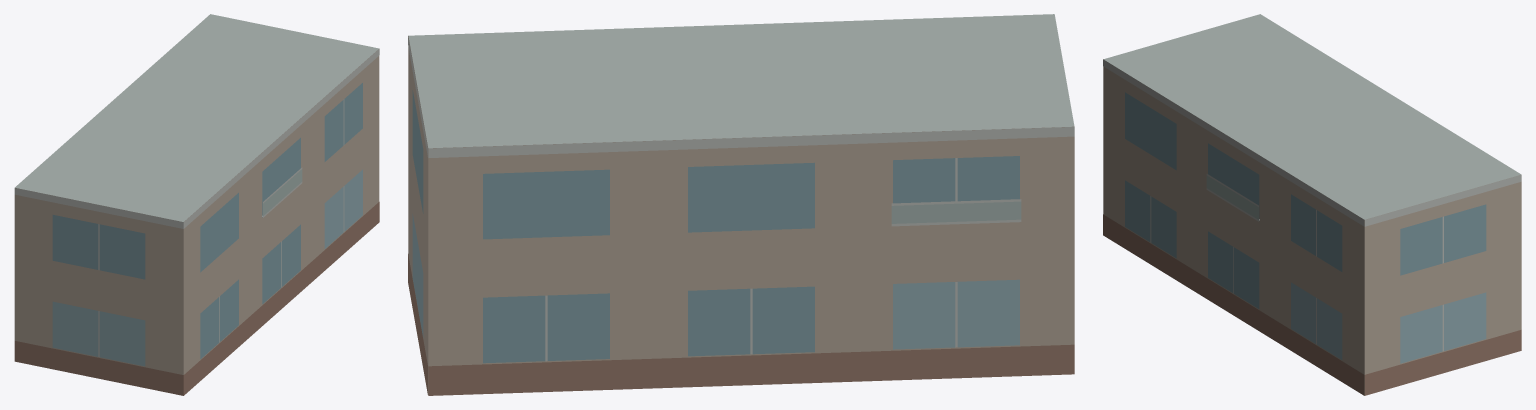
File: survey-upis-32800437.glb
3 renders of one model, left to right at view 1: azimuth 30°, elevation 25°; view 2: azimuth 150°, elevation 25°; view 3: azimuth 270°, elevation 25°, orthographic. The views are drawn at different scales.
Parts seen in each view (by area): view 1: survey-upis-32800437.tmp; view 2: survey-upis-32800437.tmp; view 3: survey-upis-32800437.tmp.
Boxes of the visible parts, box(x1,y1,x2,y2) form: survey-upis-32800437.tmp: box(14, 14, 379, 395); survey-upis-32800437.tmp: box(408, 14, 1074, 395); survey-upis-32800437.tmp: box(1103, 14, 1521, 395).
Bounding box in the file's own units: 15.3 × 6.1 × 13.15.
